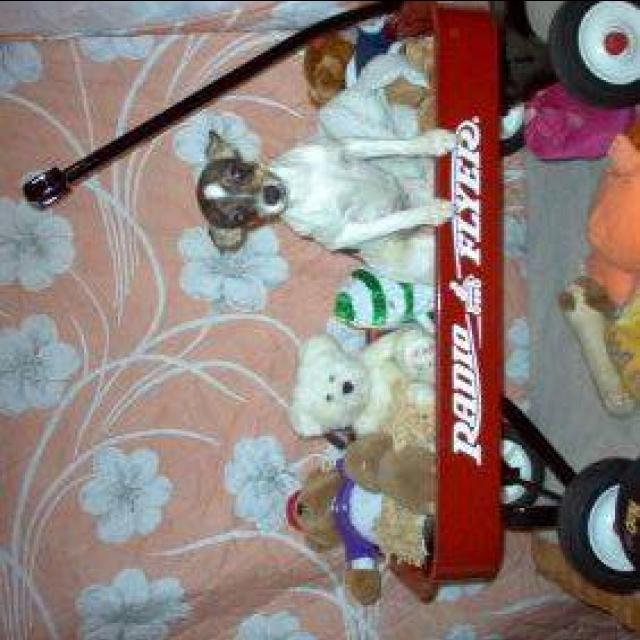dog: (181, 96, 465, 270)
